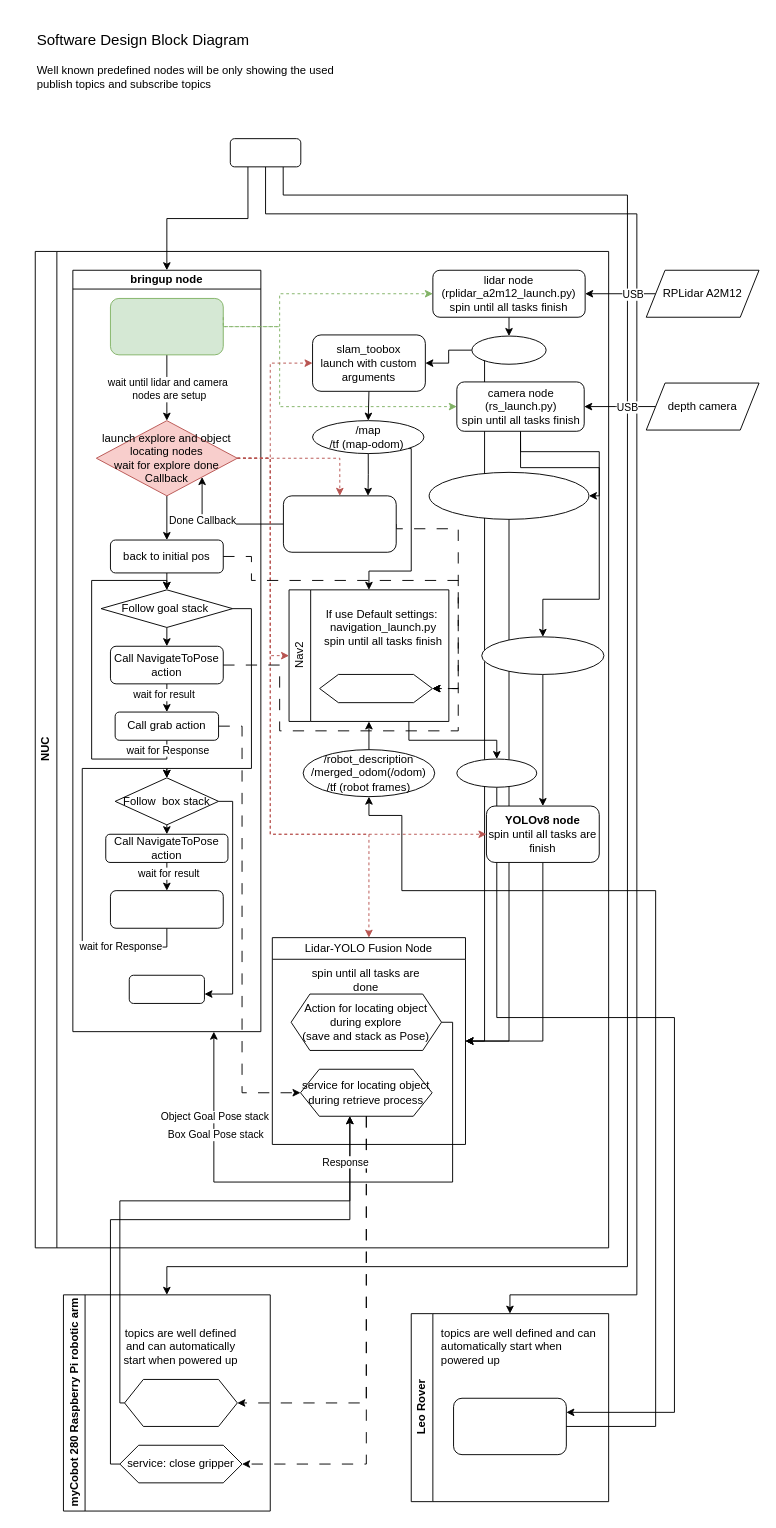
The diagram is 776 pixels wide and 1528 high, and some of its shapes have lost their labels. The centre of each missing label's shape, as x and y in pixels:
/camera/depth/color/points (or /camera/depth/points): point 508,495
/camera/image_raw: point 542,655
/cmd_vel: point 496,772
/scan: point 508,349
Call put in box sequence: point 166,909
explore_node (spin until a full close map is made): point 339,523
Finish: point 166,988
Firmware: point 509,1426
Initialize and start up camera and RPLidar: point 166,326
NavigateToPose: point 375,688
power up: point 265,152
service: SetCoords: point 180,1402
